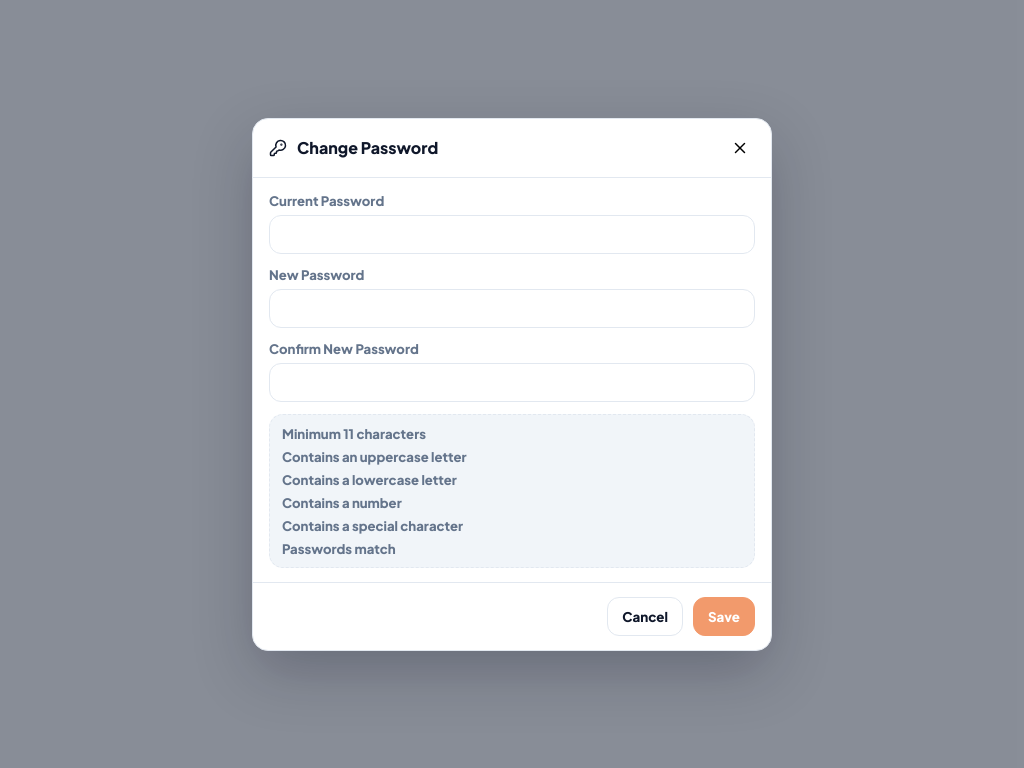
Test case: resolves an incomplete dashboard user and preserves the refreshed signed session
Type "CurrentPass1!" into the password field named "Current Password".
click(512, 234); type("CurrentPass1!")  # box left=269, top=214, right=755, bottom=254
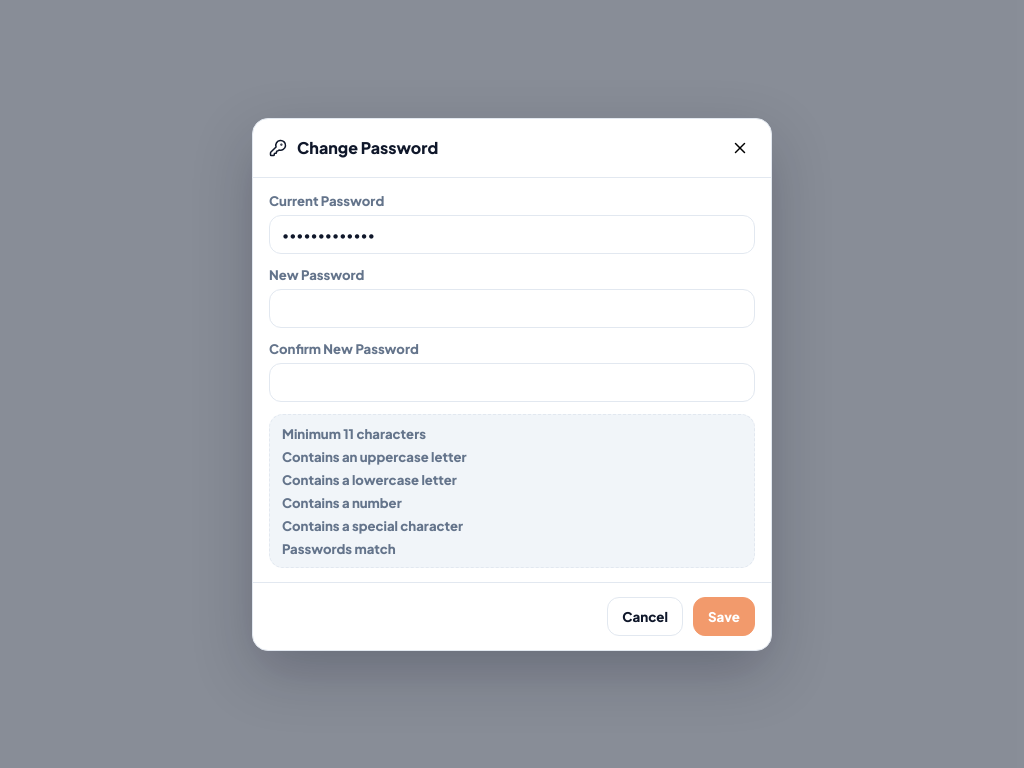
Type "Replacement1!" into the password field named "New Password".
click(512, 308); type("Replacement1!")  # box left=269, top=288, right=755, bottom=328
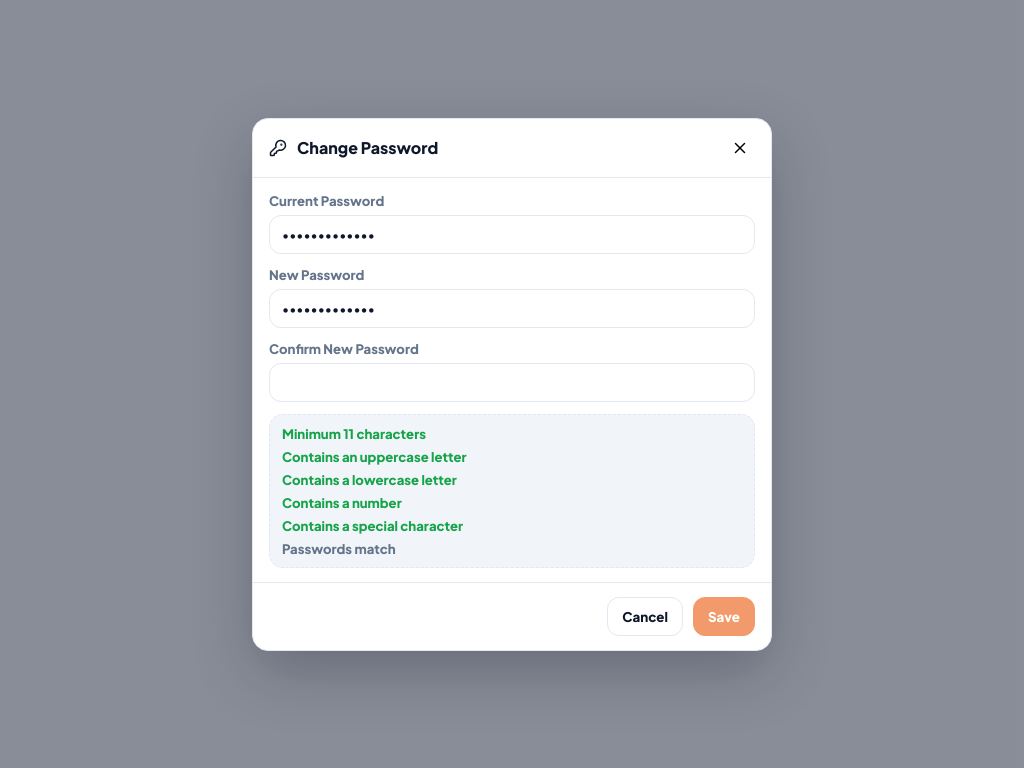
Type "Replacement1!" into the password field named "Confirm New Password".
click(512, 382); type("Replacement1!")  # box left=269, top=362, right=755, bottom=402
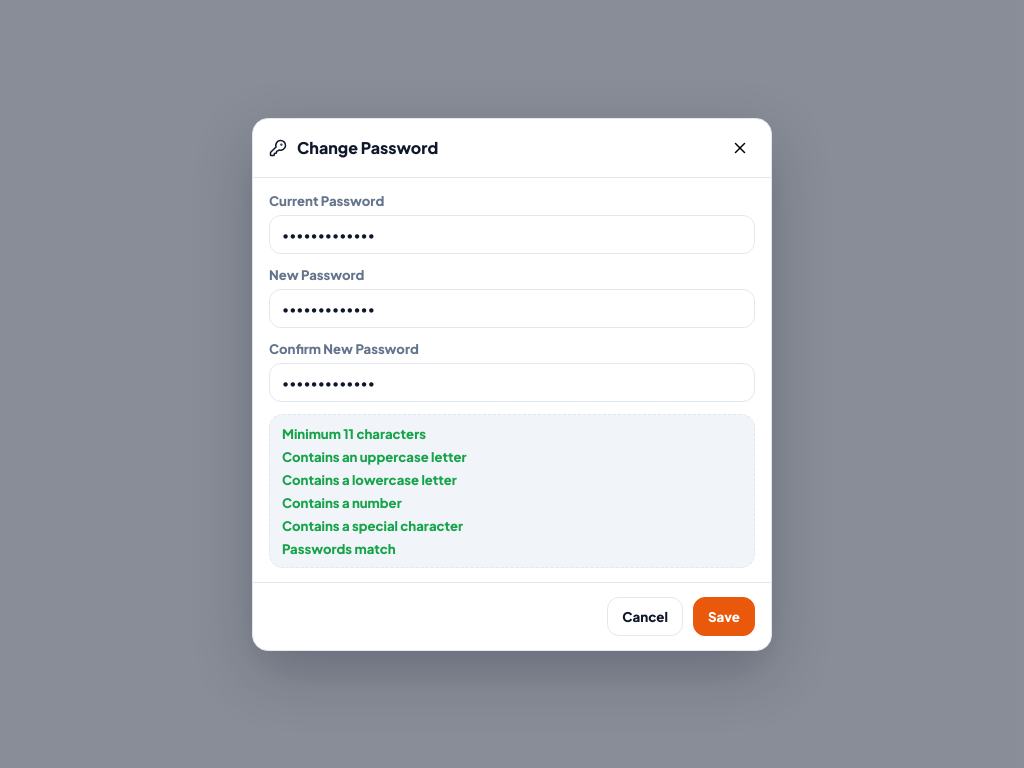
Click the button "Save".
click(724, 616)  # box left=693, top=596, right=755, bottom=636
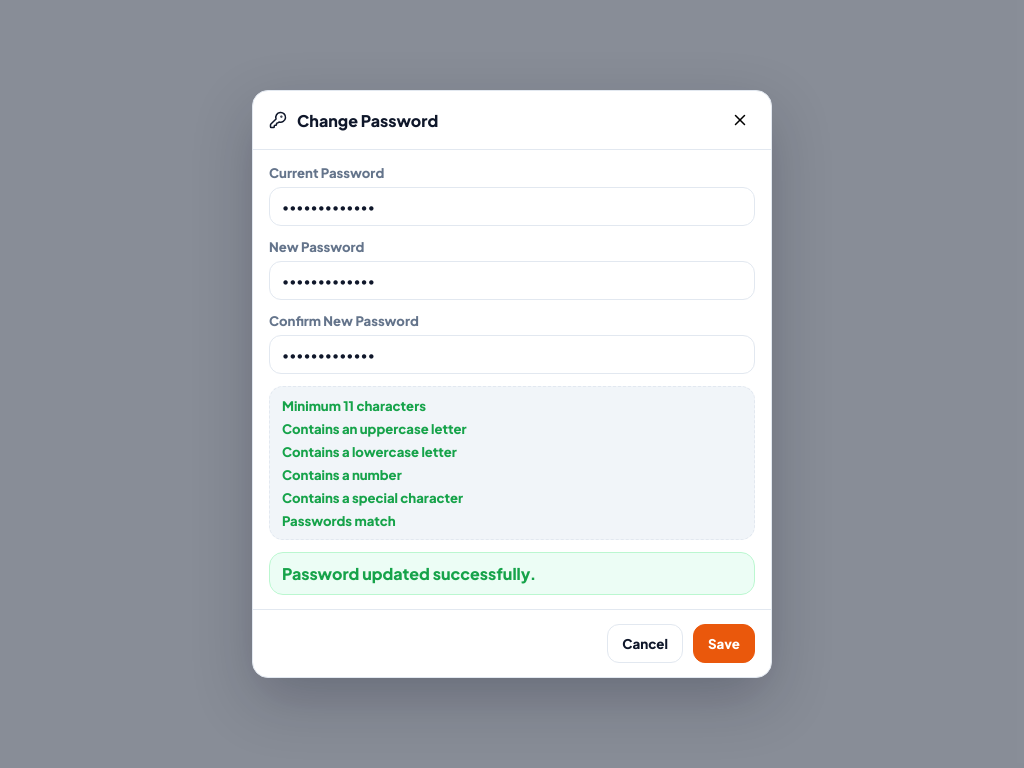
expect the text "Password updated successfully." is shown: met, box left=269, top=552, right=755, bottom=595
